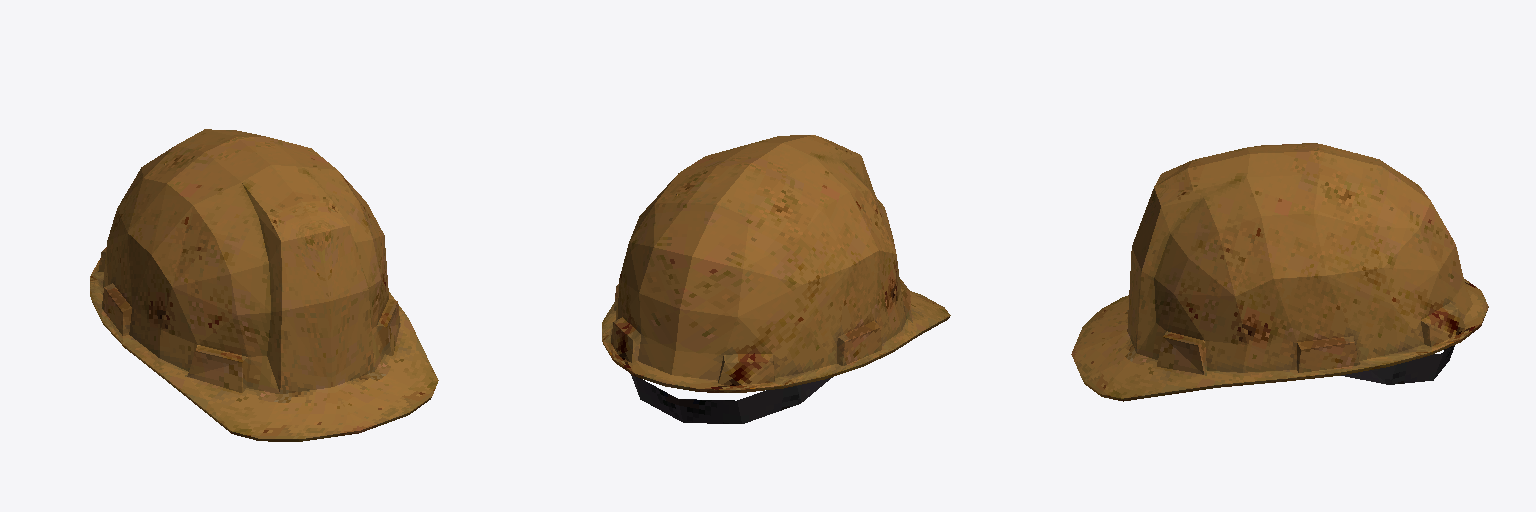
The picture shows the model from 3 angles: view 1: azimuth 30°, elevation 25°; view 2: azimuth 150°, elevation 25°; view 3: azimuth 270°, elevation 25°; orthographic projection.
Size of the model in its own units: 0.2449 by 0.1897 by 0.3423.
1 materials, 1 textured.